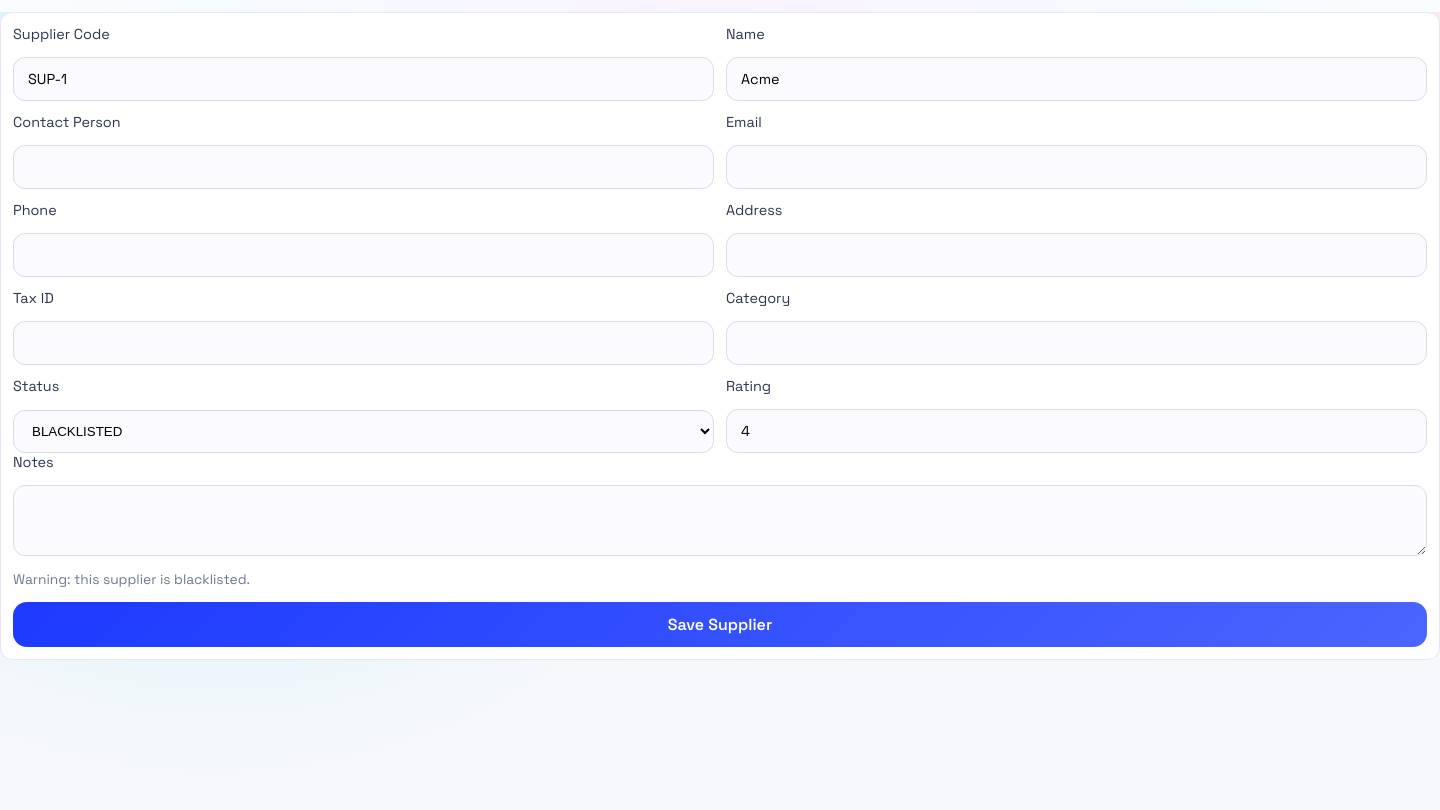
Scenario: Corporate forms › supplier validation + blacklisted warning + prefill
Expected: the text "Warning: this supplier is blacklisted." is shown, left=13, top=570, right=250, bottom=588
Clear the field labelled "Name" at (1076, 79), box left=726, top=57, right=1427, bottom=101
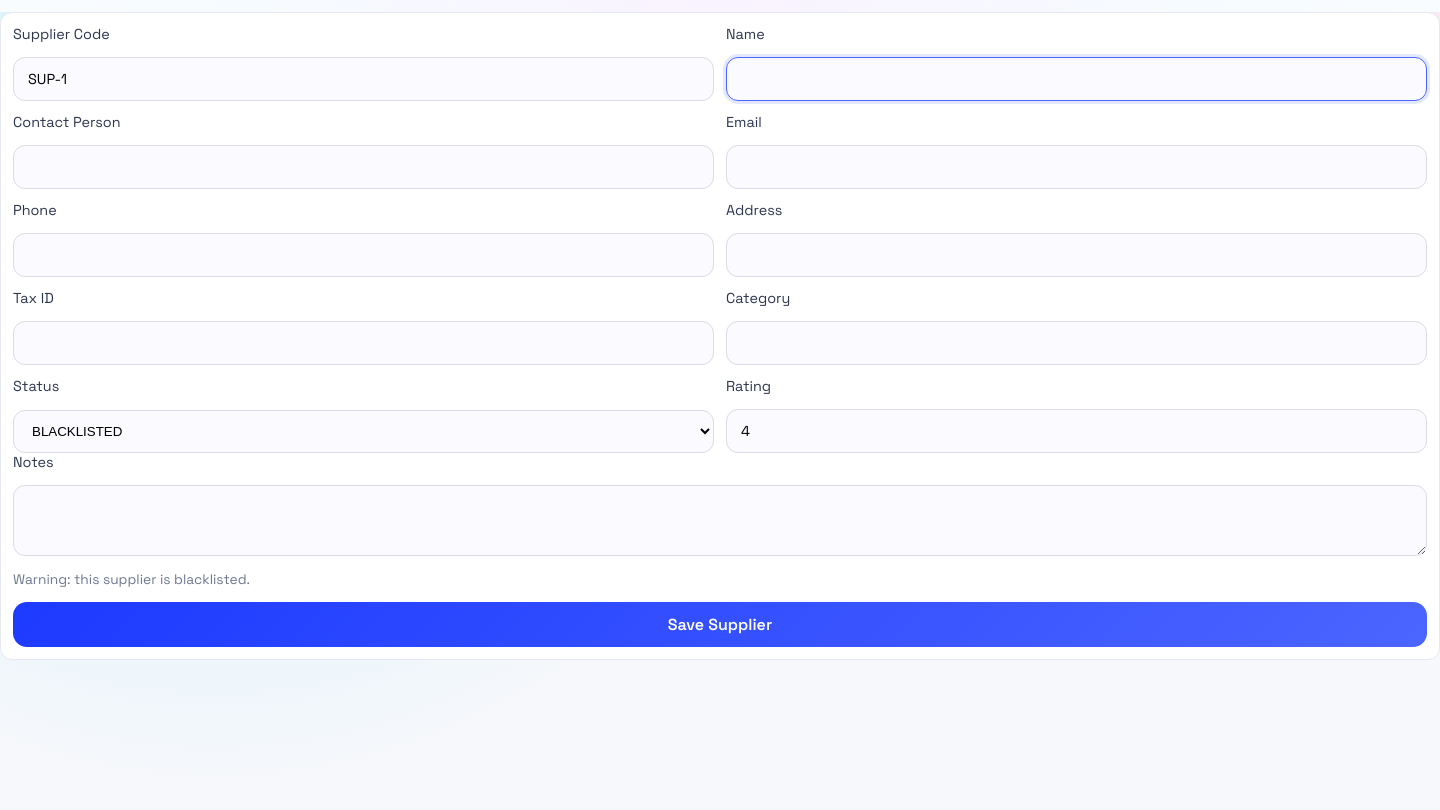
Click the button "Save Supplier" at (720, 624), box left=13, top=602, right=1427, bottom=646
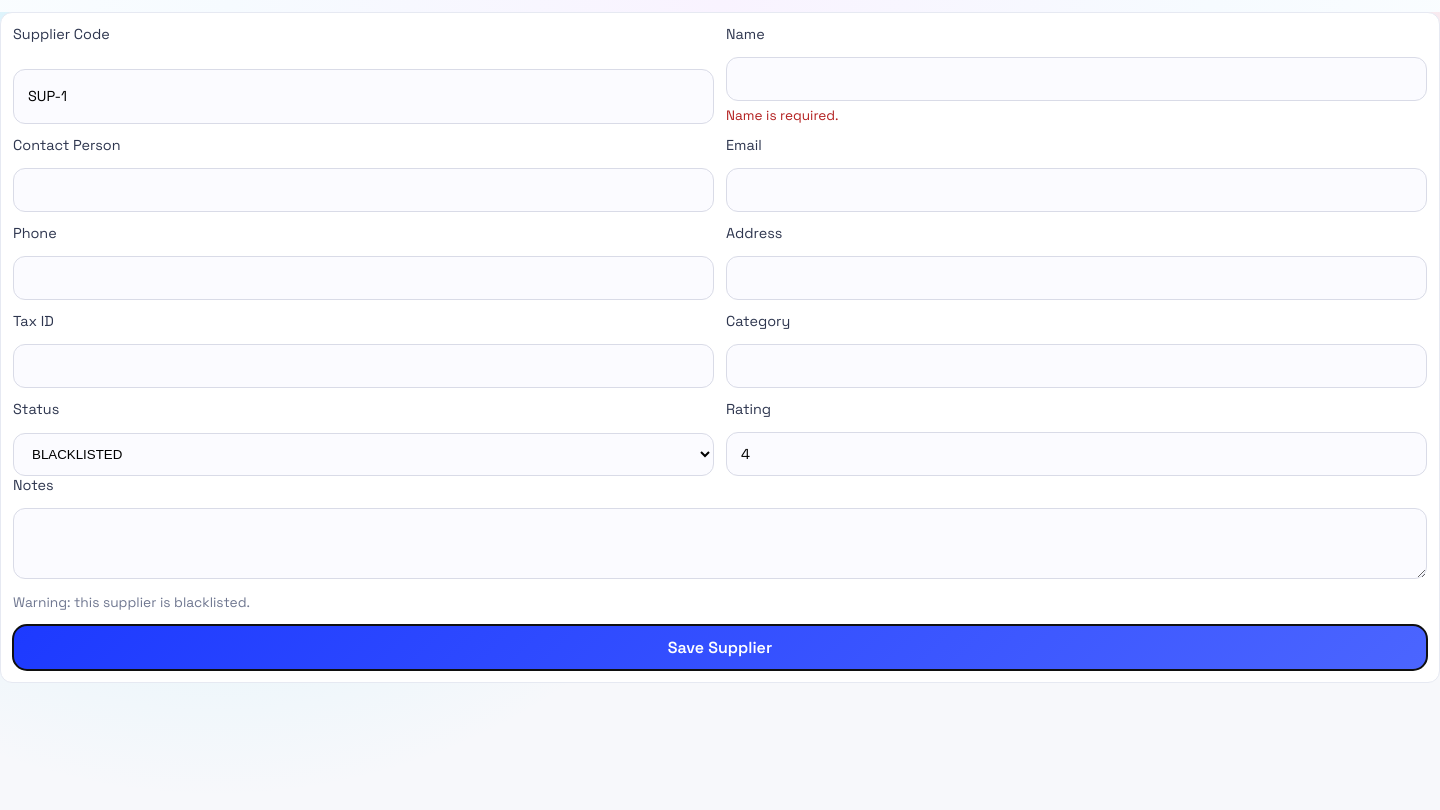
Result: the text "Name is required." is shown at left=726, top=107, right=838, bottom=124
